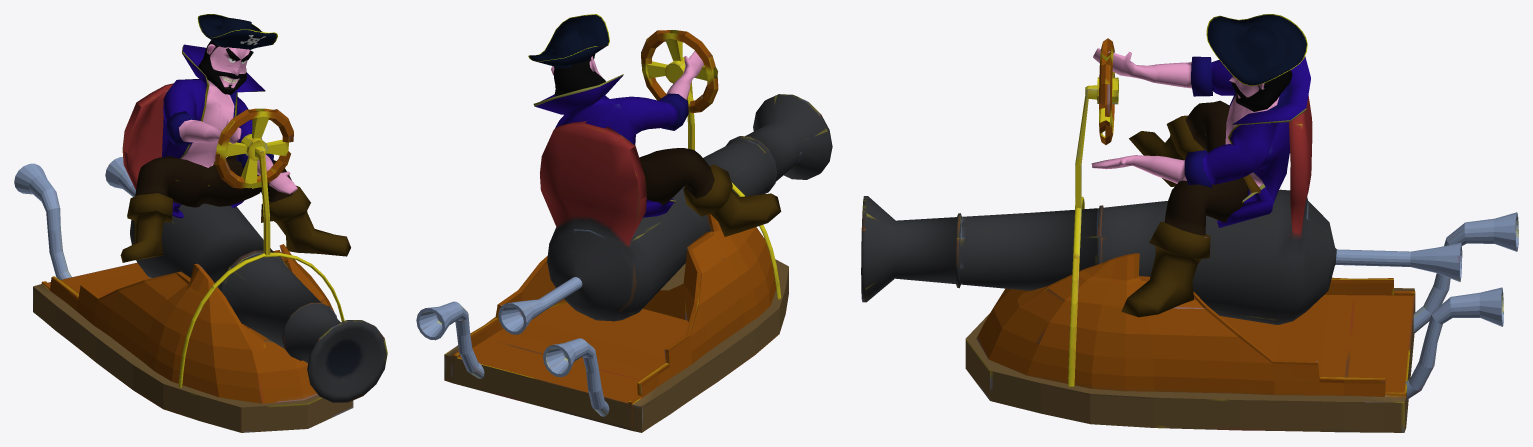
Rendered from pirataGiroDER_000396.obj.
3 views of the same model, side by side, from view 1: azimuth 30°, elevation 25°; view 2: azimuth 150°, elevation 25°; view 3: azimuth 270°, elevation 25° (orthographic). The views are drawn at different scales.
Visible parts, largest first — view 1: carro_pirata, Pirata_PirataH; view 2: carro_pirata, Pirata_PirataH; view 3: carro_pirata, Pirata_PirataH.
Boxes of the visible parts, x1,y1,x2,y2 form: carro_pirata: (14,83,387,432); Pirata_PirataH: (120,14,350,262); carro_pirata: (416,30,832,432); Pirata_PirataH: (528,14,781,236); carro_pirata: (861,38,1518,432); Pirata_PirataH: (1091,14,1310,317).
Size of the model in its own units: 5.68 by 7.58 by 12.1.
2 materials, 2 textured.
